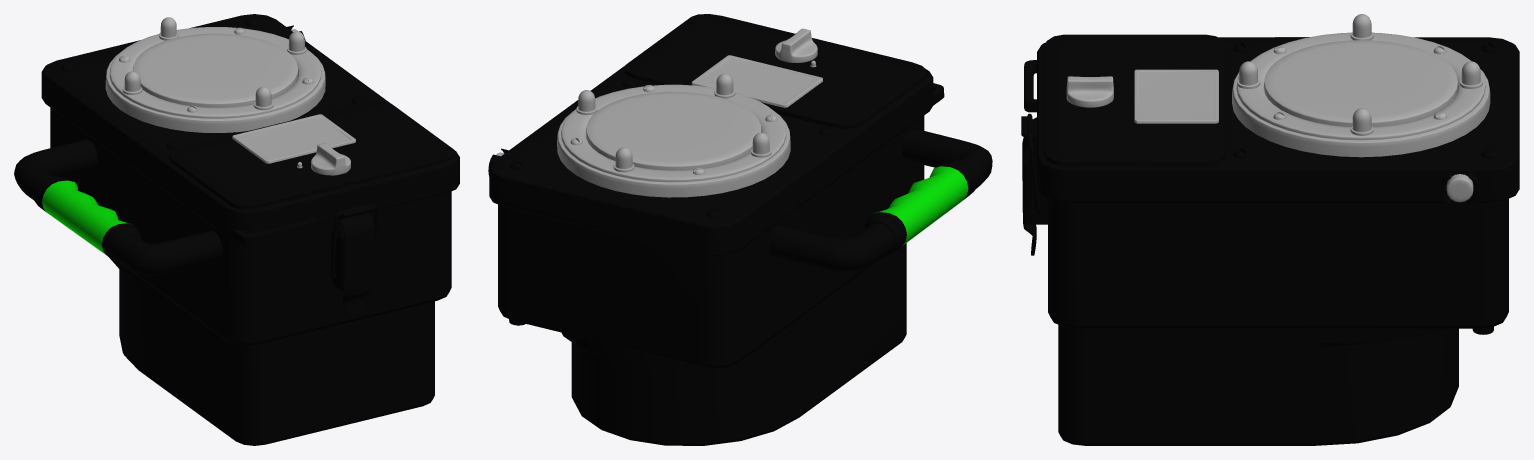
The model's file is geigerCounter.fbx.
3 renders of one model, left to right at view 1: azimuth 30°, elevation 25°; view 2: azimuth 150°, elevation 25°; view 3: azimuth 270°, elevation 25°, orthographic. The views are drawn at different scales.
Visible parts, largest first — view 1: mainBody1, glassCover, metalCasing1, screen, dial; view 2: mainBody1, glassCover, metalCasing1, screen, dial; view 3: mainBody1, glassCover, metalCasing1, screen, dial, laserButton, meterLight2, meterLight1, meterLight3, meterLight4.
Boxes of the visible parts, box(x1,y1,x2,y2) form: mainBody1: box(14, 14, 459, 445); glassCover: box(133, 33, 298, 107); metalCasing1: box(105, 27, 325, 132); screen: box(232, 114, 355, 163); dial: box(311, 143, 350, 175); mainBody1: box(488, 14, 992, 445); glassCover: box(586, 91, 761, 170); metalCasing1: box(557, 84, 790, 197); screen: box(691, 55, 822, 107); dial: box(775, 28, 817, 62); mainBody1: box(1021, 34, 1519, 445); glassCover: box(1264, 40, 1458, 126); metalCasing1: box(1232, 32, 1490, 157); screen: box(1134, 69, 1218, 123); dial: box(1066, 76, 1113, 107); laserButton: box(1446, 174, 1473, 202); meterLight2: box(1350, 108, 1373, 135); meterLight1: box(1459, 61, 1482, 88); meterLight3: box(1237, 61, 1260, 88); meterLight4: box(1350, 14, 1373, 40).
Bounding box in the file's own units: 22.14 × 18.49 × 25.36.
